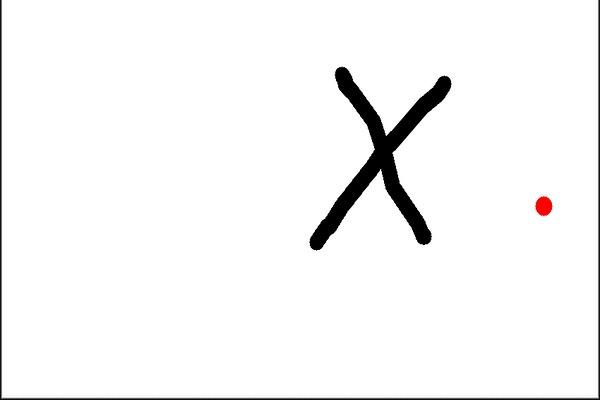X: (277, 45, 464, 286)
